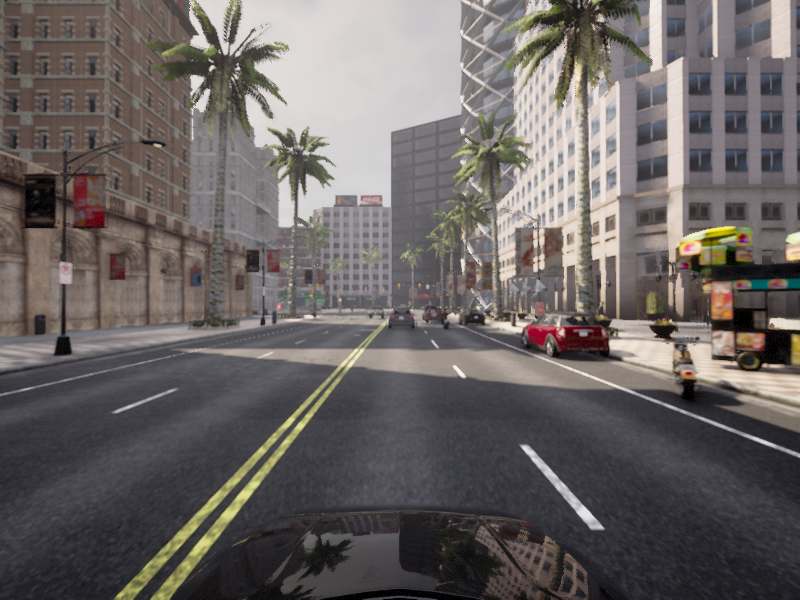vehicle: (387, 307, 415, 329), (423, 307, 445, 323), (421, 304, 439, 320), (391, 306, 411, 320), (439, 308, 451, 330)
